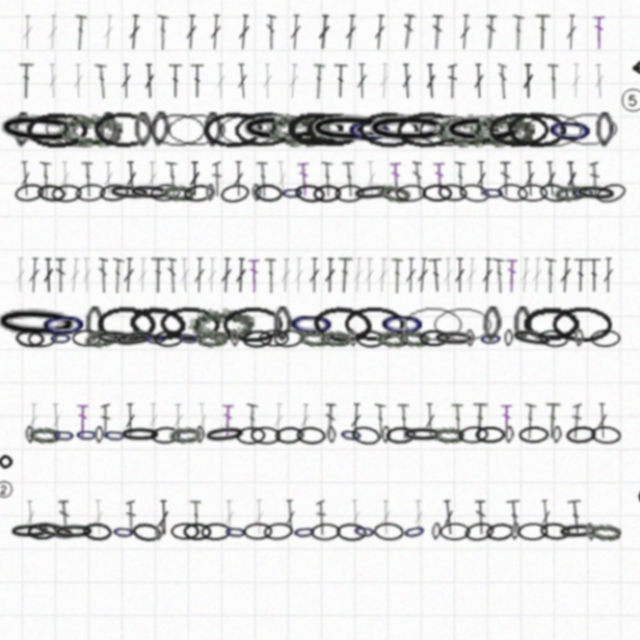chain: (6, 122, 92, 160), (3, 309, 89, 346), (240, 123, 325, 158), (306, 123, 391, 158), (361, 123, 446, 158), (435, 124, 520, 158), (192, 310, 256, 346), (52, 122, 112, 160), (311, 309, 371, 347), (236, 122, 296, 159), (266, 123, 329, 158), (134, 309, 192, 347), (164, 310, 224, 346), (66, 124, 129, 158), (428, 124, 491, 158), (463, 124, 526, 158), (356, 123, 415, 158), (392, 123, 451, 158), (548, 123, 607, 158), (398, 310, 457, 345), (101, 123, 159, 158), (153, 123, 211, 158), (206, 123, 264, 158), (221, 123, 279, 158), (104, 310, 162, 345), (36, 124, 95, 158), (171, 124, 230, 158), (514, 124, 573, 158), (342, 311, 401, 345), (542, 311, 601, 345), (499, 123, 556, 158), (481, 124, 539, 158), (225, 311, 283, 345), (427, 311, 485, 345), (287, 123, 343, 158), (412, 124, 469, 158), (305, 124, 361, 158), (514, 311, 570, 345), (343, 123, 391, 159), (536, 123, 584, 159), (287, 310, 335, 345), (375, 310, 422, 345), (49, 311, 96, 345), (42, 514, 86, 541), (501, 330, 545, 353), (119, 331, 163, 353), (349, 191, 392, 212), (206, 424, 249, 445), (563, 192, 606, 212), (114, 192, 157, 211), (101, 332, 144, 351), (134, 192, 176, 211), (547, 518, 589, 537), (583, 190, 615, 214), (427, 333, 469, 351), (61, 519, 103, 537), (374, 191, 407, 213), (91, 331, 124, 353), (125, 426, 167, 443), (397, 426, 439, 443), (19, 519, 61, 536), (155, 123, 175, 158), (543, 191, 576, 212), (452, 191, 483, 213), (222, 191, 252, 213), (348, 424, 378, 446), (24, 191, 55, 212), (489, 191, 520, 212), (457, 517, 488, 538), (23, 124, 42, 158), (475, 311, 494, 345), (186, 192, 218, 212), (199, 332, 231, 352), (529, 191, 559, 212), (106, 124, 124, 158), (140, 124, 158, 158), (207, 124, 225, 158), (584, 124, 602, 158), (93, 311, 111, 345), (274, 311, 292, 345), (505, 311, 523, 345), (393, 332, 425, 351), (173, 425, 205, 444), (294, 192, 324, 212), (529, 332, 559, 352), (137, 518, 167, 538), (46, 192, 75, 212), (478, 518, 507, 538), (83, 192, 113, 211), (106, 192, 136, 211), (155, 192, 185, 211), (37, 332, 67, 351), (274, 332, 304, 351), (452, 425, 482, 444), (555, 425, 585, 444), (579, 425, 609, 444), (264, 518, 294, 537), (370, 518, 400, 537), (530, 518, 560, 537), (373, 333, 404, 351), (578, 519, 609, 537), (255, 192, 284, 211), (432, 192, 461, 211), (25, 332, 54, 351), (90, 518, 119, 537), (397, 517, 423, 538), (60, 193, 90, 211), (334, 519, 364, 537), (167, 193, 198, 210), (298, 333, 329, 350), (318, 333, 349, 350), (38, 426, 69, 443), (427, 426, 458, 443), (333, 193, 362, 211), (392, 193, 421, 211), (159, 333, 188, 351), (244, 333, 273, 351), (353, 333, 382, 351), (156, 426, 185, 444), (238, 426, 267, 444), (252, 426, 281, 444), (275, 426, 304, 444), (296, 426, 325, 444), (382, 426, 411, 444), (310, 519, 339, 537), (434, 519, 464, 536), (312, 193, 340, 211), (417, 193, 446, 210), (509, 193, 538, 210), (80, 333, 109, 350), (260, 333, 289, 350), (414, 333, 443, 350), (579, 333, 608, 350), (468, 426, 497, 443), (510, 426, 539, 443), (37, 519, 66, 536), (204, 519, 233, 536), (509, 519, 538, 536), (175, 519, 203, 536), (187, 519, 215, 536), (245, 519, 273, 536), (180, 332, 205, 351), (337, 425, 361, 444), (350, 518, 374, 537), (148, 333, 172, 351), (118, 519, 142, 537), (226, 519, 250, 537), (292, 519, 316, 537), (472, 333, 495, 351), (61, 426, 84, 444), (110, 426, 133, 444), (281, 193, 304, 210), (474, 193, 497, 210), (561, 193, 584, 210), (58, 333, 81, 350), (83, 426, 106, 443), (159, 519, 170, 537), (574, 519, 585, 537), (345, 333, 356, 350), (253, 193, 263, 210), (232, 333, 242, 350), (35, 426, 45, 443), (325, 426, 335, 443), (496, 426, 506, 443), (542, 426, 552, 443), (426, 519, 436, 536), (502, 519, 512, 536), (209, 193, 218, 210), (459, 333, 468, 350), (496, 333, 505, 350), (564, 333, 573, 350), (102, 426, 111, 443), (199, 426, 208, 443), (378, 426, 387, 443)
double: (498, 496, 515, 531), (557, 496, 574, 531), (335, 264, 351, 298), (423, 264, 439, 298), (465, 404, 481, 438), (535, 404, 551, 438), (80, 30, 95, 64), (526, 30, 541, 64), (29, 77, 44, 111), (156, 264, 171, 298), (397, 29, 411, 64), (239, 30, 253, 64), (316, 30, 330, 64), (102, 77, 116, 111), (173, 77, 187, 111), (194, 77, 208, 111), (310, 77, 324, 111), (332, 77, 346, 111), (170, 171, 184, 205), (76, 264, 90, 298), (117, 264, 131, 298), (411, 264, 425, 298), (563, 264, 577, 298), (576, 264, 590, 298), (514, 404, 528, 438), (436, 497, 450, 531), (109, 30, 122, 64), (134, 30, 147, 64), (161, 30, 174, 64), (212, 30, 225, 64), (289, 30, 302, 64), (342, 30, 355, 64), (370, 30, 383, 64), (452, 30, 465, 64), (477, 30, 490, 64), (503, 30, 516, 64), (238, 77, 251, 111), (287, 77, 300, 111), (396, 77, 409, 111), (29, 171, 42, 205), (131, 171, 144, 205), (257, 171, 270, 205), (276, 171, 289, 205), (297, 171, 310, 205), (340, 171, 353, 205), (362, 171, 375, 205), (535, 171, 548, 205), (555, 171, 568, 205), (349, 264, 362, 298), (373, 264, 386, 298), (386, 264, 399, 298), (458, 264, 471, 298), (485, 264, 498, 298), (510, 264, 523, 298), (534, 264, 547, 298), (549, 264, 562, 298), (59, 404, 72, 438), (200, 404, 213, 438), (247, 404, 260, 438), (298, 404, 311, 438), (347, 404, 360, 438), (34, 497, 47, 531), (67, 497, 80, 531), (284, 497, 297, 531), (347, 497, 360, 531), (530, 497, 543, 531), (56, 30, 68, 64), (189, 30, 201, 64), (426, 30, 438, 64), (555, 30, 567, 64), (56, 77, 68, 111), (149, 77, 161, 111), (375, 77, 387, 111), (420, 77, 432, 111), (466, 77, 478, 111), (537, 77, 549, 111), (582, 77, 594, 111), (49, 171, 61, 205), (68, 171, 80, 205), (89, 171, 101, 205), (320, 171, 332, 205), (386, 171, 398, 205), (428, 171, 440, 205), (448, 171, 460, 205), (492, 171, 504, 205), (515, 171, 527, 205), (38, 264, 50, 298), (129, 264, 141, 298), (183, 264, 195, 298), (197, 264, 209, 298), (209, 264, 221, 298), (223, 264, 235, 298), (237, 264, 249, 298), (265, 264, 277, 298), (280, 264, 292, 298), (474, 264, 486, 298), (522, 264, 534, 298), (37, 404, 49, 438), (224, 404, 236, 438), (273, 404, 285, 438), (323, 404, 335, 438), (371, 404, 383, 438), (393, 404, 405, 438), (419, 404, 431, 438), (445, 404, 457, 438), (585, 404, 597, 438), (100, 497, 112, 531), (163, 497, 175, 531), (193, 497, 205, 531), (226, 497, 238, 531), (408, 497, 420, 531), (468, 497, 480, 531), (32, 30, 43, 64), (266, 30, 277, 64), (582, 30, 593, 64), (81, 77, 92, 111), (127, 77, 138, 111), (218, 77, 229, 111), (263, 77, 274, 111), (354, 77, 365, 111), (514, 77, 525, 111), (560, 77, 571, 111), (110, 171, 121, 205), (152, 171, 163, 205), (193, 171, 204, 205), (235, 171, 246, 205), (469, 171, 480, 205), (578, 171, 589, 205), (25, 264, 36, 298), (52, 264, 63, 298), (64, 264, 75, 298), (89, 264, 100, 298), (143, 264, 154, 298), (250, 264, 261, 298), (293, 264, 304, 298), (308, 264, 319, 298), (323, 264, 334, 298), (361, 264, 372, 298), (401, 264, 412, 298), (437, 264, 448, 298), (448, 264, 459, 298), (498, 264, 509, 298), (591, 264, 602, 298), (85, 404, 96, 438), (131, 404, 142, 438), (153, 404, 164, 438), (177, 404, 188, 438), (493, 404, 504, 438), (255, 497, 266, 531), (315, 497, 326, 531), (377, 497, 388, 531), (490, 77, 500, 111), (215, 171, 225, 205), (408, 171, 418, 205), (105, 264, 115, 298), (561, 404, 571, 438), (132, 497, 142, 531), (442, 77, 451, 111), (172, 264, 181, 298), (108, 404, 117, 438)
noise: (607, 99, 633, 125), (4, 476, 25, 497), (622, 483, 640, 504), (617, 74, 640, 87), (8, 452, 24, 468)
